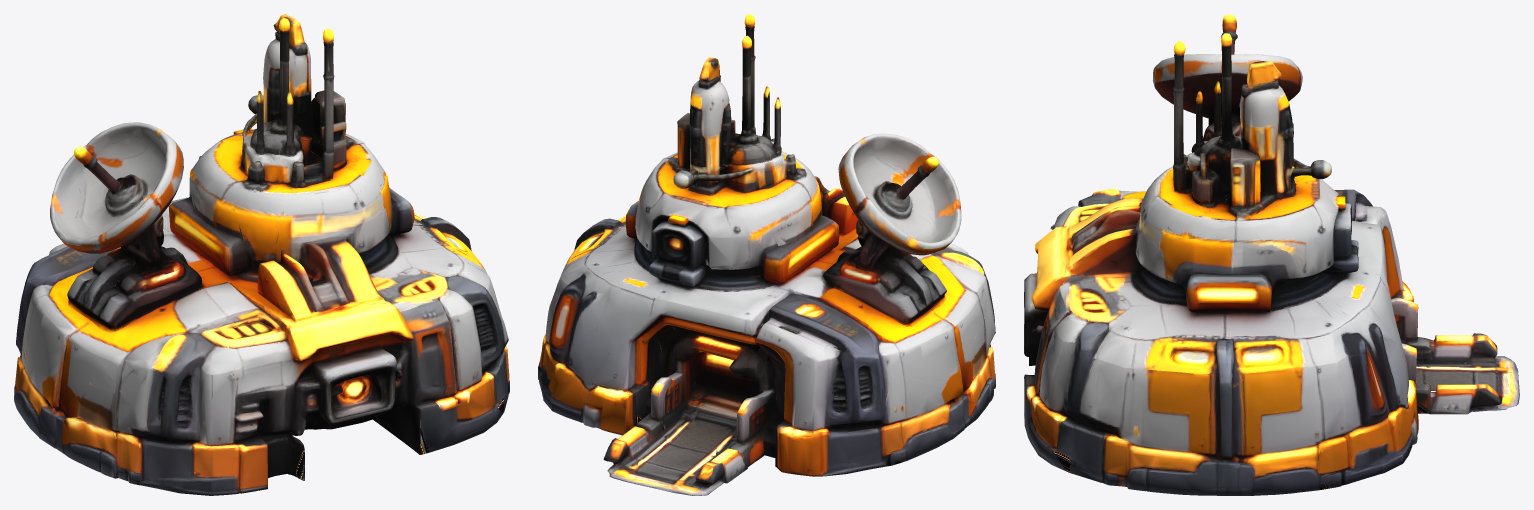
3 renders of one model, left to right at view 1: azimuth 30°, elevation 25°; view 2: azimuth 150°, elevation 25°; view 3: azimuth 270°, elevation 25°, orthographic. The views are drawn at different scales.
Visible parts, largest first — view 1: HQ_Body, HQ_Radar; view 2: HQ_Body, HQ_Radar; view 3: HQ_Body, HQ_Radar.
Boxes of the visible parts, left/top/right/bottom form: HQ_Body: left=14, top=14, right=509, bottom=495; HQ_Radar: left=50, top=122, right=196, bottom=289; HQ_Body: left=538, top=14, right=995, bottom=495; HQ_Radar: left=830, top=133, right=961, bottom=287; HQ_Body: left=1024, top=33, right=1519, bottom=495; HQ_Radar: left=1153, top=14, right=1302, bottom=152.
Bounding box in the file's own units: 1.57 × 1.32 × 1.59.
Materials: 1 (1 with a texture image).
